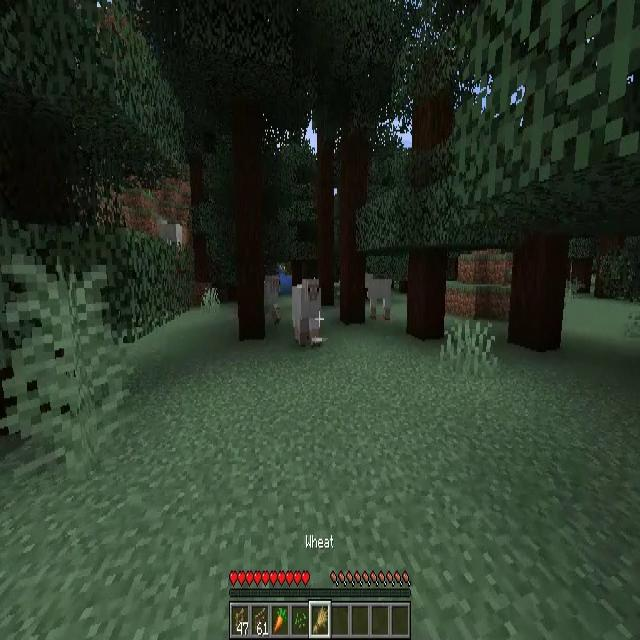sheep: (292, 278, 320, 344), (365, 273, 393, 320), (263, 275, 281, 326)
